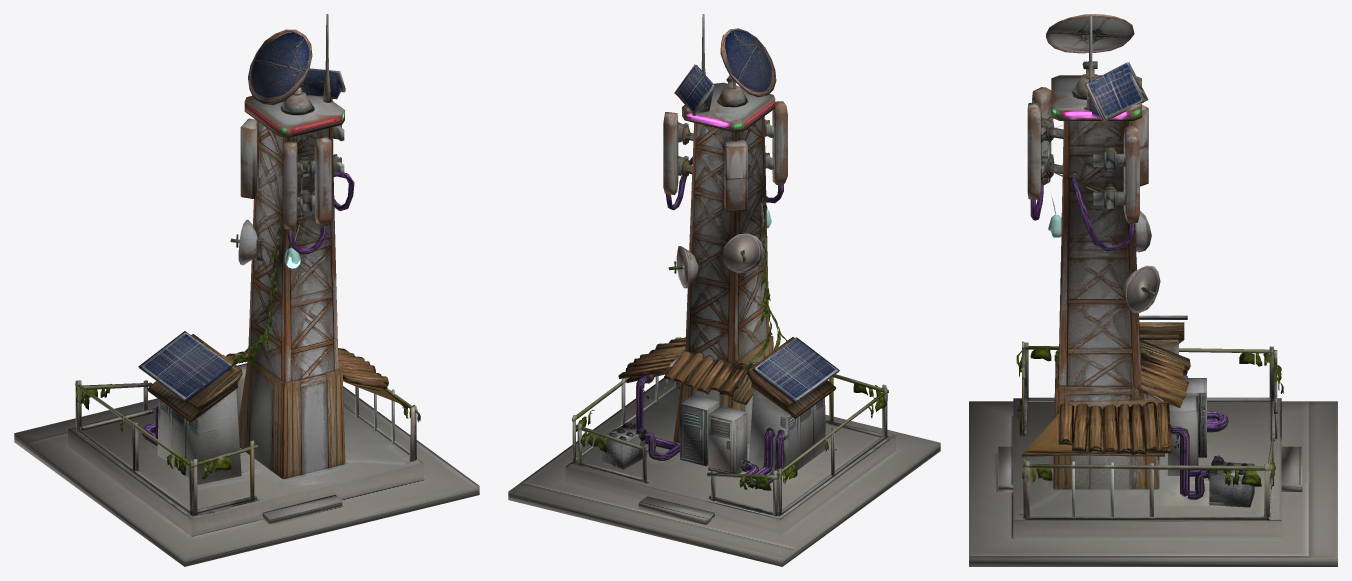
Rendered from cell_tower.glb.
3 renders of one model, left to right at view 1: azimuth 30°, elevation 25°; view 2: azimuth 150°, elevation 25°; view 3: azimuth 270°, elevation 25°, orthographic. The views are drawn at different scales.
Visible parts, largest first — view 1: Body; view 2: Body; view 3: Body, Glow.
Part boxes in pixels (bbox=[...]): Body: bbox=[14, 14, 479, 566]; Body: bbox=[508, 14, 940, 566]; Body: bbox=[969, 14, 1337, 566]; Glow: bbox=[1048, 110, 1133, 236].
Size of the model in its own units: 12.01 by 18 by 12.01.
Materials: 2 (2 with a texture image).
